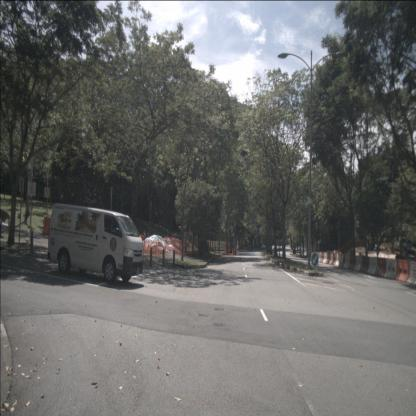barrier: (396, 259, 409, 282), (384, 259, 397, 279), (406, 261, 416, 285), (375, 258, 386, 278), (367, 257, 377, 275), (43, 218, 54, 234), (360, 257, 370, 273), (354, 255, 362, 271), (348, 255, 355, 270), (338, 254, 346, 267), (343, 254, 350, 268), (335, 253, 341, 267), (328, 252, 334, 264), (325, 252, 331, 264), (322, 252, 328, 263), (332, 253, 337, 265), (320, 251, 324, 263), (318, 252, 322, 262)
cone: (232, 248, 235, 256), (234, 248, 236, 254)
